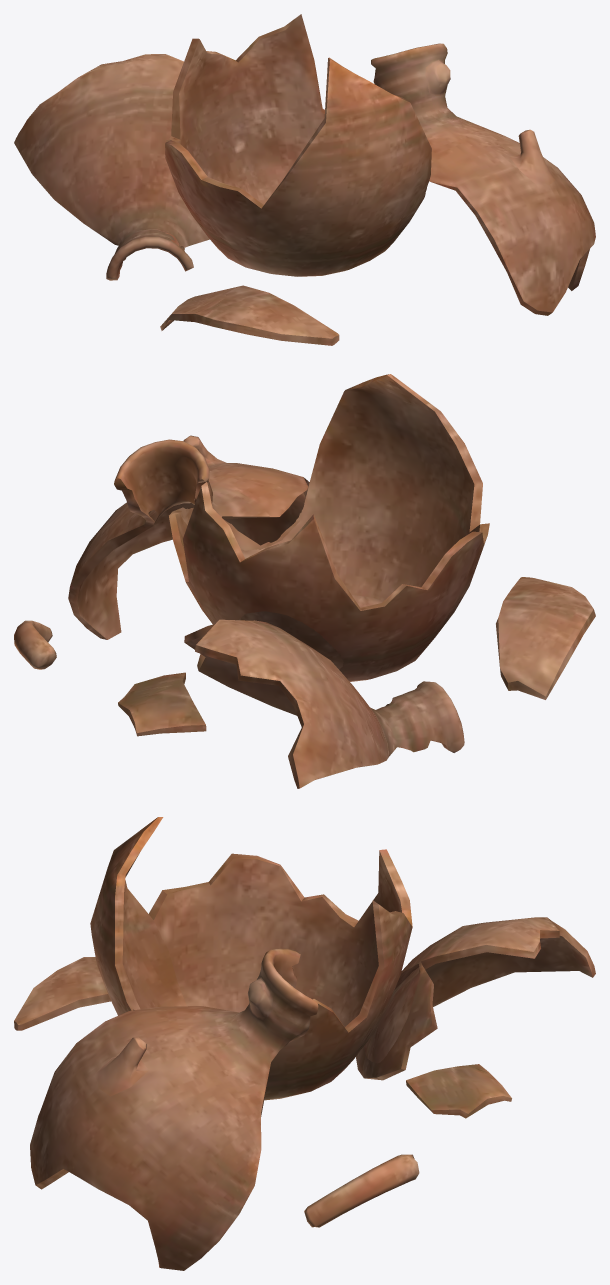
The picture shows the model from 3 angles, top to bottom: view 1: azimuth 30°, elevation 25°; view 2: azimuth 150°, elevation 25°; view 3: azimuth 270°, elevation 25°; orthographic projection. The views are drawn at different scales.
Visible parts, largest first — view 1: SM_Pot_01_Dmg_LOD0; view 2: SM_Pot_01_Dmg_LOD0; view 3: SM_Pot_01_Dmg_LOD0.
Part boxes in pixels (box(x1,y1,x2,y2)): SM_Pot_01_Dmg_LOD0: box(14, 14, 595, 345); SM_Pot_01_Dmg_LOD0: box(14, 374, 595, 788); SM_Pot_01_Dmg_LOD0: box(14, 817, 595, 1270).
Bounding box in the file's own units: 0.659 × 0.4362 × 0.716.
Materials: 1 (1 with a texture image).
